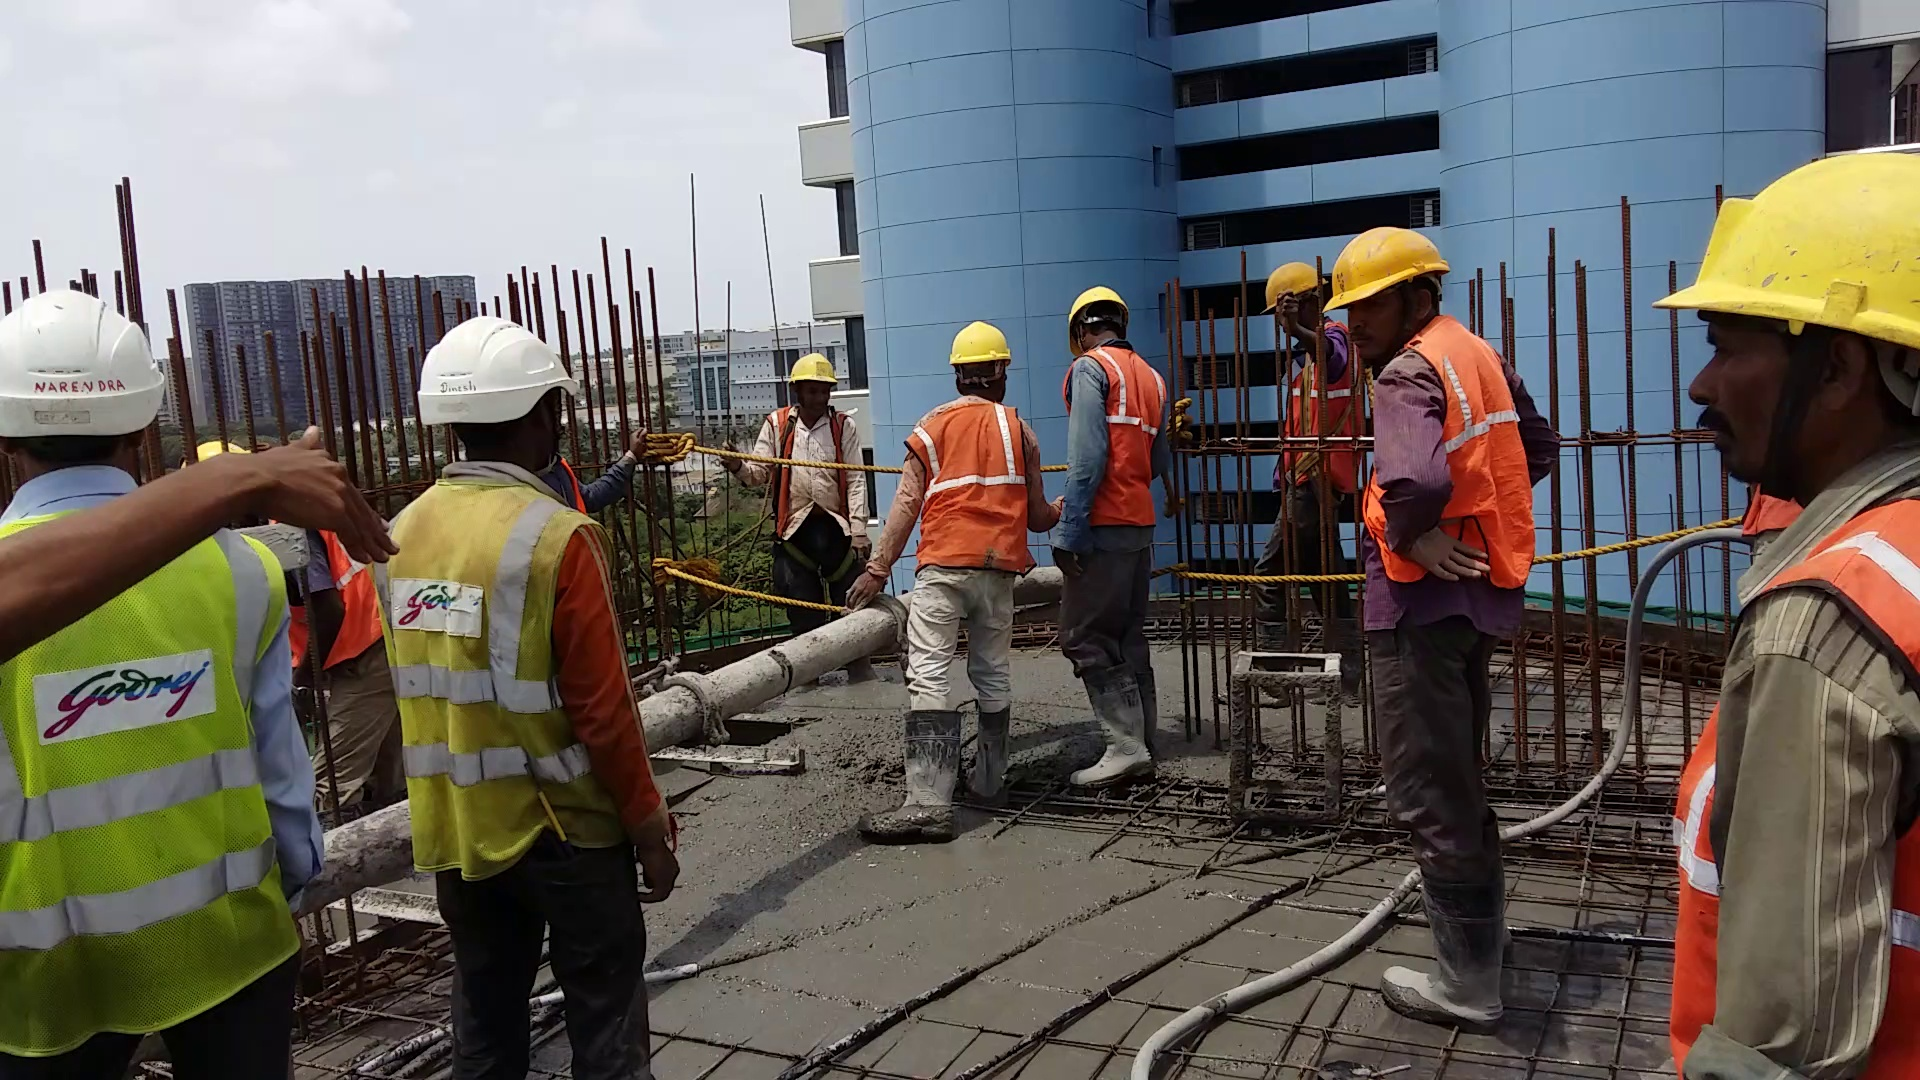NoJacket: (771, 342, 851, 535)
SAFE: (1660, 142, 1920, 1077), (1, 291, 260, 1005), (384, 319, 585, 862), (1332, 222, 1528, 628), (884, 319, 1033, 579), (1048, 282, 1164, 537)
